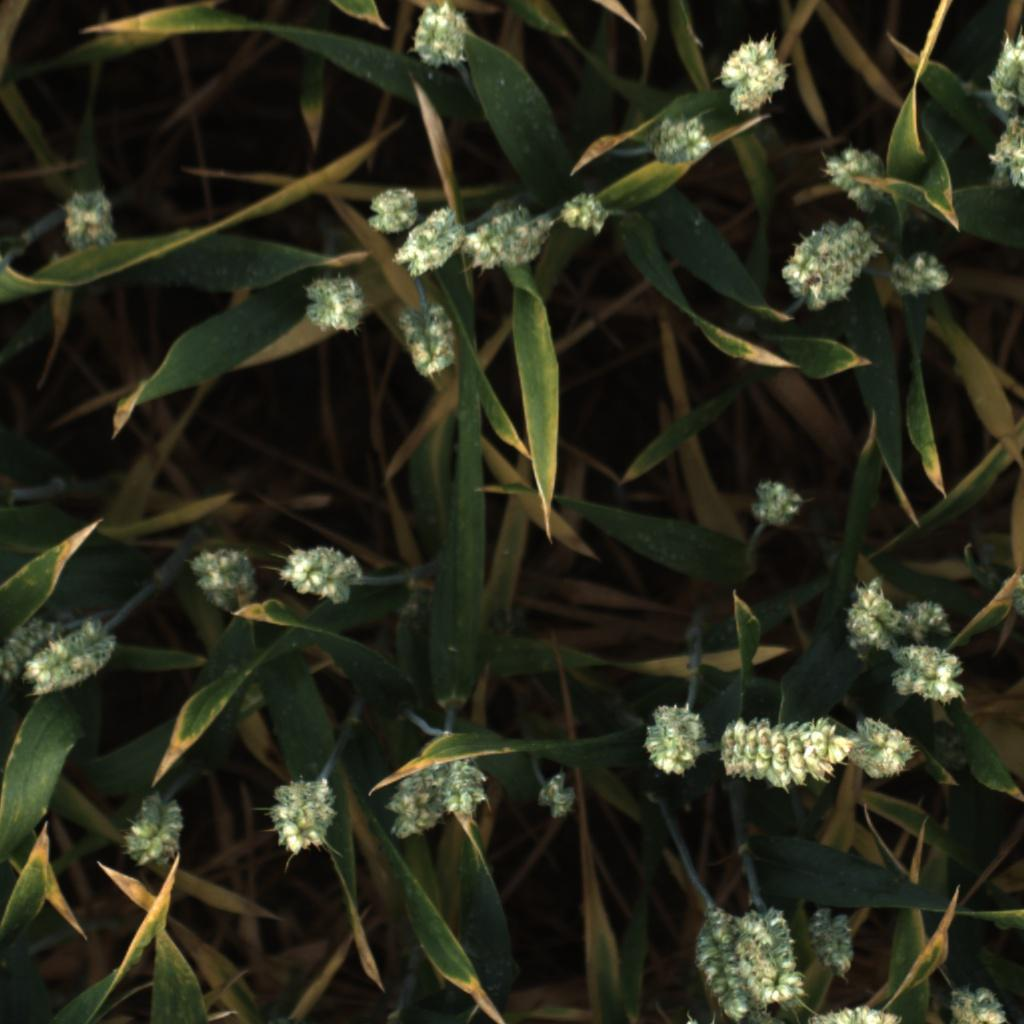0-0: (770, 216, 880, 312), (722, 718, 851, 793), (692, 906, 756, 1020), (23, 623, 120, 697), (745, 901, 809, 1010), (458, 203, 552, 272), (715, 35, 797, 114), (271, 538, 363, 608), (387, 202, 468, 280), (389, 300, 465, 380), (269, 774, 336, 862), (638, 703, 711, 781), (177, 542, 260, 609), (401, 0, 474, 76), (119, 794, 189, 871), (376, 769, 446, 844), (892, 644, 975, 707), (845, 715, 918, 786), (838, 575, 899, 657), (298, 273, 372, 337), (53, 188, 125, 253), (818, 142, 884, 210), (805, 902, 863, 978), (742, 471, 812, 531), (434, 752, 493, 822), (879, 248, 955, 301), (648, 113, 716, 169), (358, 184, 422, 237), (895, 596, 959, 648), (984, 25, 1024, 106), (530, 765, 585, 822), (991, 116, 1024, 207), (940, 982, 1010, 1024), (555, 192, 616, 239), (0, 618, 42, 683), (809, 999, 908, 1024)
